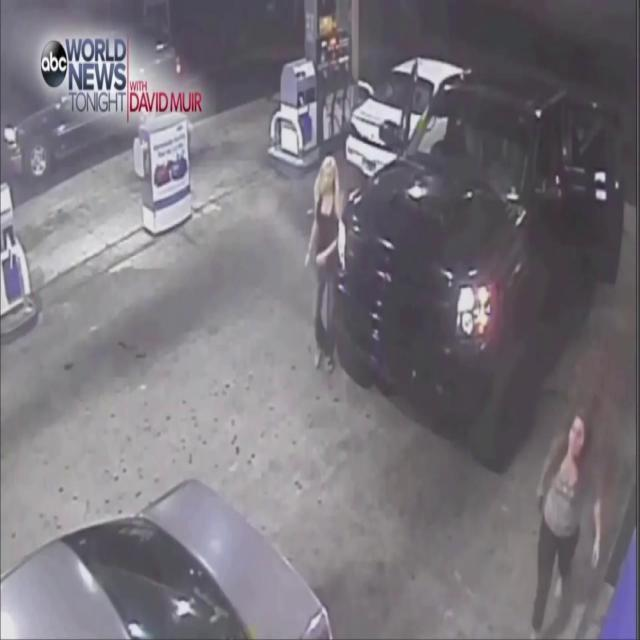weapon: (536, 492, 544, 512)
